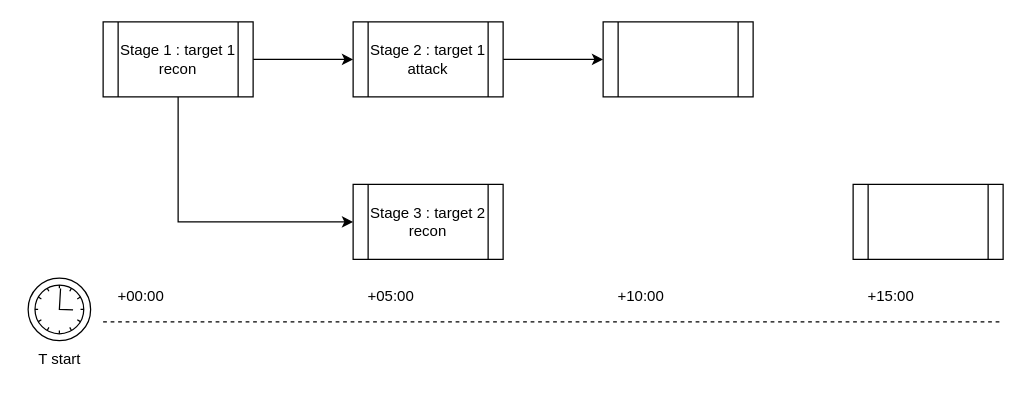
Some shapes in this 1026 by 400 pixel diagram are drawn without their labels. Here are the shapes that lost their labels. From the top down, the box of each, then its label:
(602, 21, 753, 97): Stage 4 : target 1 data exfiltration
(852, 183, 1003, 259): Stage 5 : target 2 DoS
